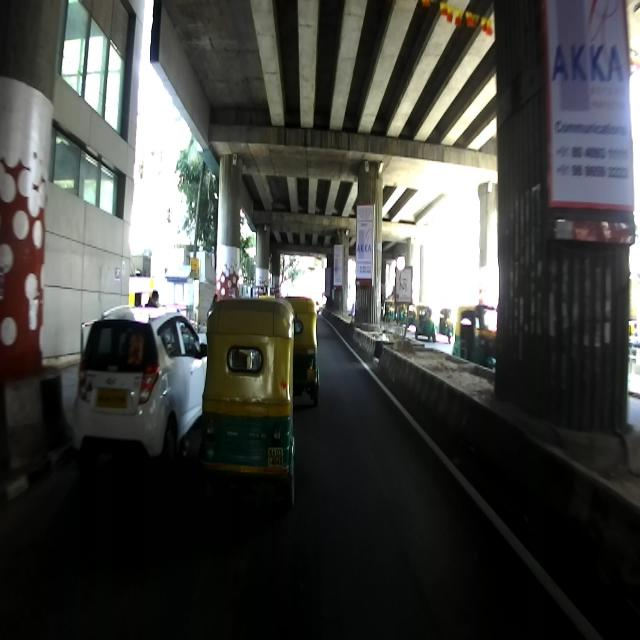Car_Chevrolet: (73, 303, 207, 473)
autorickshaw: (199, 290, 295, 500)
